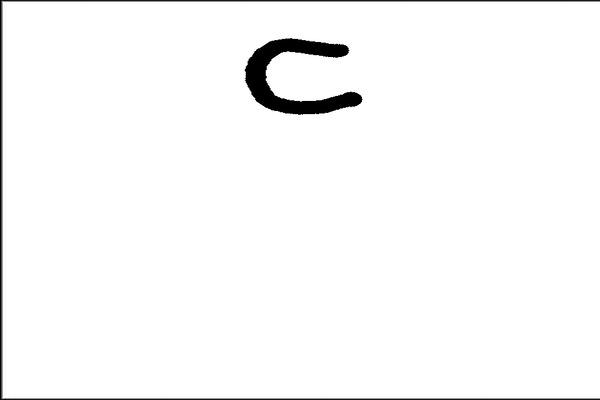C: (238, 33, 365, 119)
